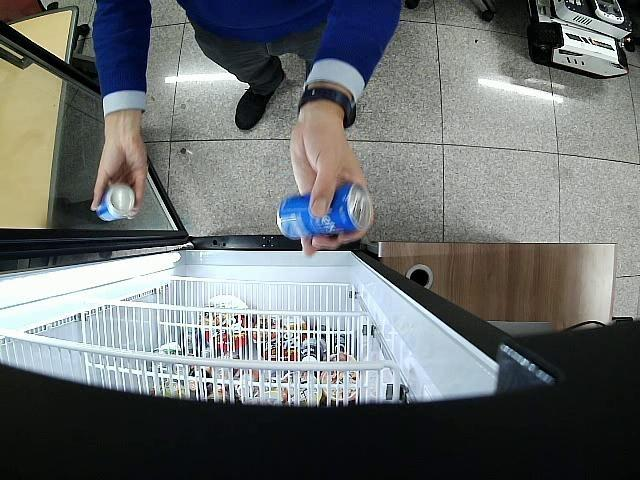15_letsbe: (277, 182, 370, 240), (97, 184, 136, 222)
